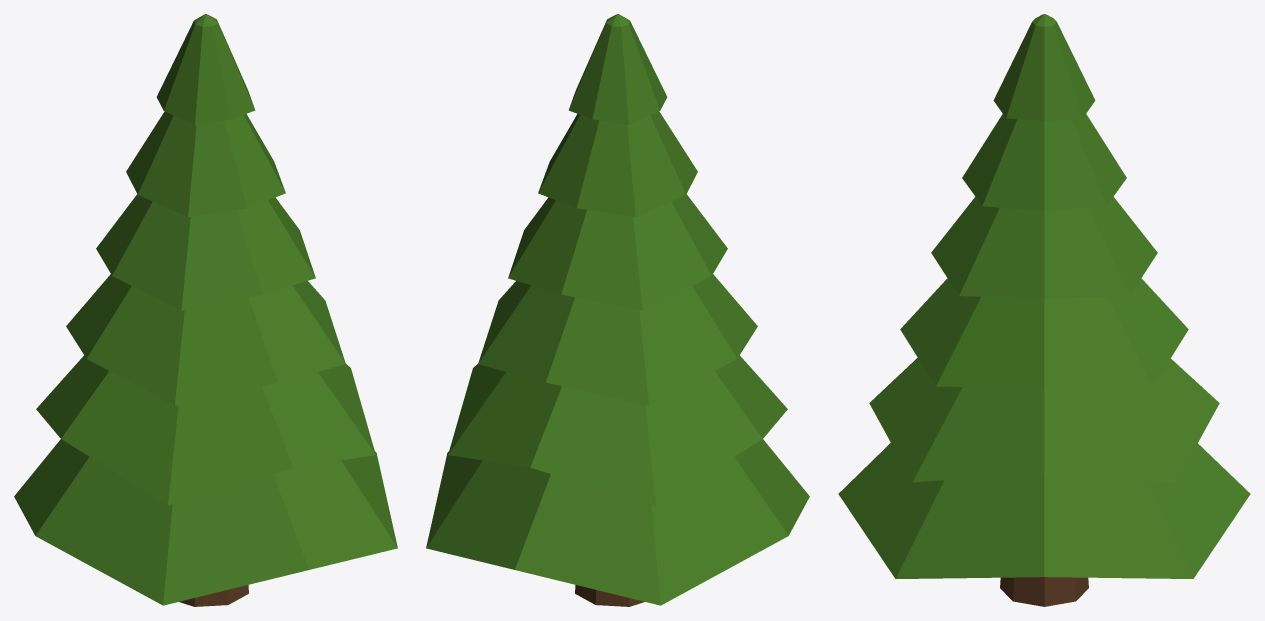
Rendered from pineTree.fbx.
The picture shows the model from 3 angles, left to right: view 1: azimuth 30°, elevation 25°; view 2: azimuth 150°, elevation 25°; view 3: azimuth 270°, elevation 25°; orthographic projection.
Parts seen in each view (by area): view 1: Norm_PineTree; view 2: Norm_PineTree; view 3: Norm_PineTree.
Part boxes in pixels (x1,y1,x2,y2): Norm_PineTree: (14,14,397,606); Norm_PineTree: (426,14,809,606); Norm_PineTree: (838,14,1250,606).
Bounding box in the file's own units: 475 × 763 × 497.
